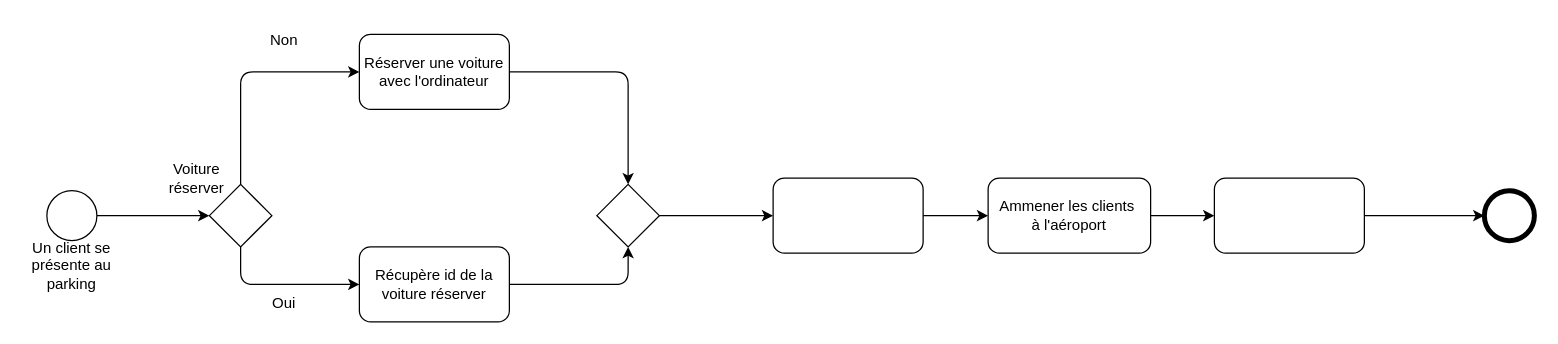
Image size: 1558x344. Some labels were removed from this diagram. The centre of each missing label's shape, as x and y in pixels:
Déplacer les voiture dans "zone d'attente": [1288,215]
Récupérer les clés: [847,215]
